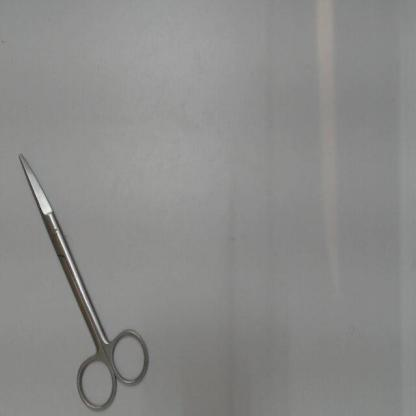Curved Mayo Scissors: (12, 140, 160, 414)
